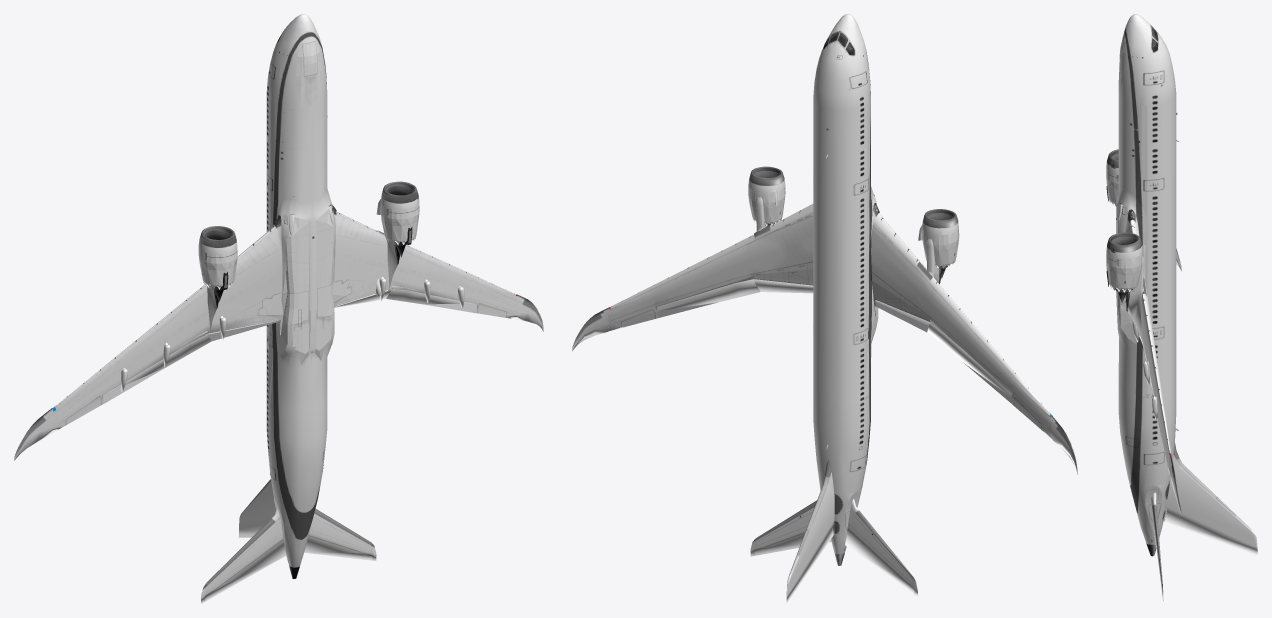
File: airplane.glb
The picture shows the model from 3 angles, left to right: view 1: azimuth 30°, elevation 25°; view 2: azimuth 150°, elevation 25°; view 3: azimuth 270°, elevation 25°; orthographic projection. The views are drawn at different scales.
Visible parts, largest first — view 1: LOD0; view 2: LOD0; view 3: LOD0.
Part boxes in pixels (x1,y1,x2,y2): LOD0: [14, 14, 543, 603]; LOD0: [572, 14, 1077, 603]; LOD0: [1106, 14, 1257, 603].
Size of what is drawn, in the model's own units: 37.97 by 39.67 by 9.93.
1 material, 1 textured.
